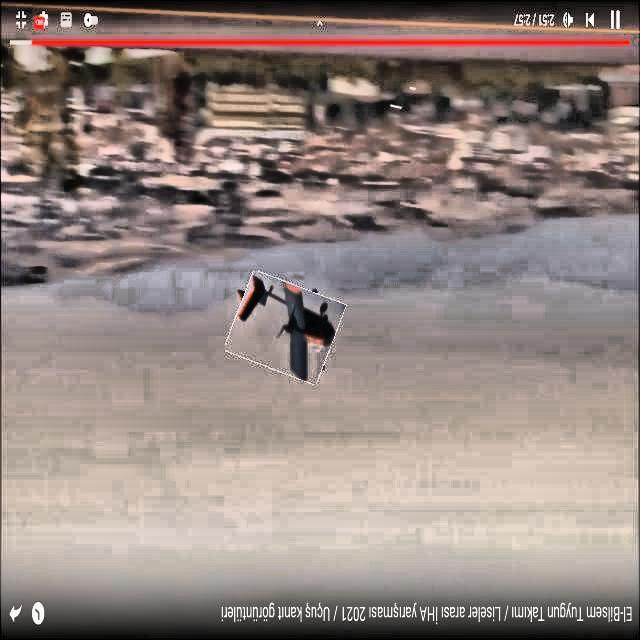iha: (272, 304, 323, 343)
